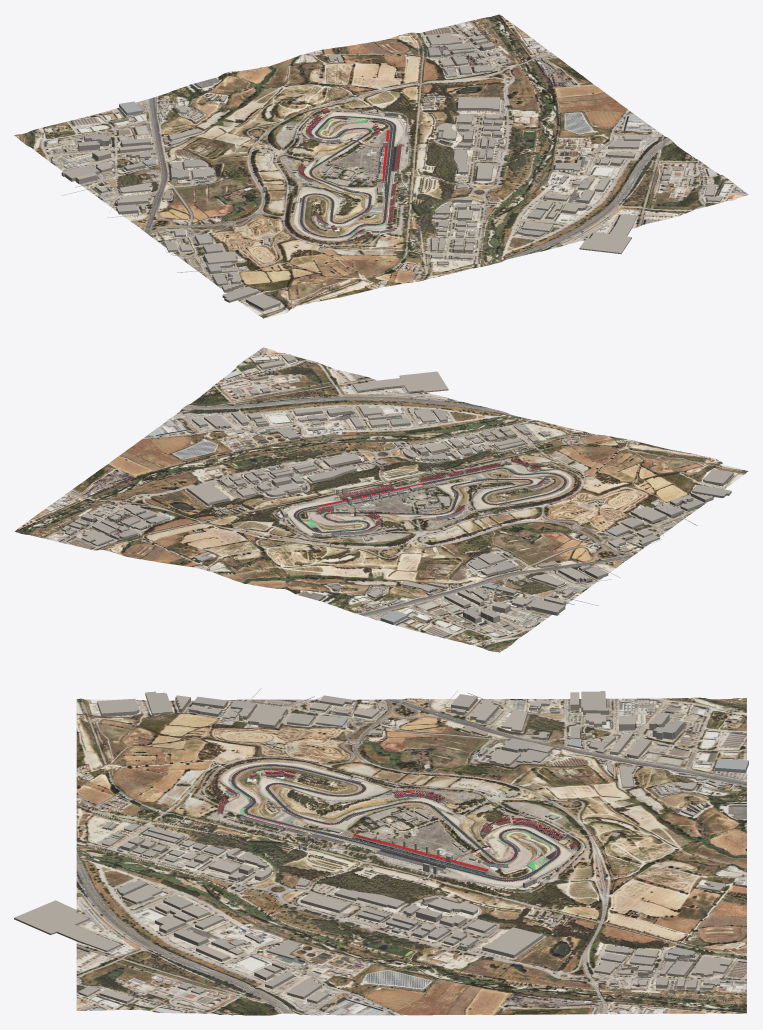
The model's file is catalunya.glb.
3 views of the same model, one above another, from view 1: azimuth 30°, elevation 25°; view 2: azimuth 150°, elevation 25°; view 3: azimuth 270°, elevation 25° (orthographic). The views are drawn at different scales.
Parts seen in each view (by area): view 1: ICGC_Catalunya_DTM_Terrain_RealScale, Catalunya_Current_OSM_ICGC_DSM_Buildings, FIA_Catalunya_Centreline_12m, Catalunya_Current_OSM_Official_Map_Grandstands, Catalunya_OSM_Safety_Fences_And_Walls; view 2: ICGC_Catalunya_DTM_Terrain_RealScale, Catalunya_Current_OSM_ICGC_DSM_Buildings, Catalunya_Current_OSM_Official_Map_Grandstands, FIA_Catalunya_Centreline_12m, Catalunya_OSM_Safety_Fences_And_Walls; view 3: ICGC_Catalunya_DTM_Terrain_RealScale, Catalunya_Current_OSM_ICGC_DSM_Buildings, FIA_Catalunya_Centreline_12m, Catalunya_Current_OSM_Official_Map_Grandstands, Catalunya_OSM_Safety_Fences_And_Walls, Catalunya_2026_40_Garage_Pit_Complex_Grandstand.
Boxes of the visible parts, left/top/right/bottom form: ICGC_Catalunya_DTM_Terrain_RealScale: left=14, top=14, right=748, bottom=318; Catalunya_Current_OSM_ICGC_DSM_Buildings: left=61, top=30, right=722, bottom=311; FIA_Catalunya_Centreline_12m: left=300, top=116, right=395, bottom=237; Catalunya_Current_OSM_Official_Map_Grandstands: left=298, top=108, right=401, bottom=234; Catalunya_OSM_Safety_Fences_And_Walls: left=61, top=50, right=504, bottom=272; ICGC_Catalunya_DTM_Terrain_RealScale: left=14, top=347, right=748, bottom=652; Catalunya_Current_OSM_ICGC_DSM_Buildings: left=59, top=354, right=733, bottom=624; Catalunya_Current_OSM_Official_Map_Grandstands: left=312, top=458, right=550, bottom=536; FIA_Catalunya_Centreline_12m: left=294, top=467, right=566, bottom=532; Catalunya_OSM_Safety_Fences_And_Walls: left=89, top=462, right=697, bottom=629; ICGC_Catalunya_DTM_Terrain_RealScale: left=76, top=697, right=746, bottom=1015; Catalunya_Current_OSM_ICGC_DSM_Buildings: left=14, top=691, right=748, bottom=1003; FIA_Catalunya_Centreline_12m: left=231, top=765, right=560, bottom=881; Catalunya_Current_OSM_Official_Map_Grandstands: left=217, top=770, right=577, bottom=871; Catalunya_OSM_Safety_Fences_And_Walls: left=210, top=688, right=747, bottom=988; Catalunya_2026_40_Garage_Pit_Complex_Grandstand: left=352, top=833, right=488, bottom=873.
Size of what is drawn, in the model's own units: 2845 by 83.75 by 2631.
Materials: 21 (1 with a texture image).
